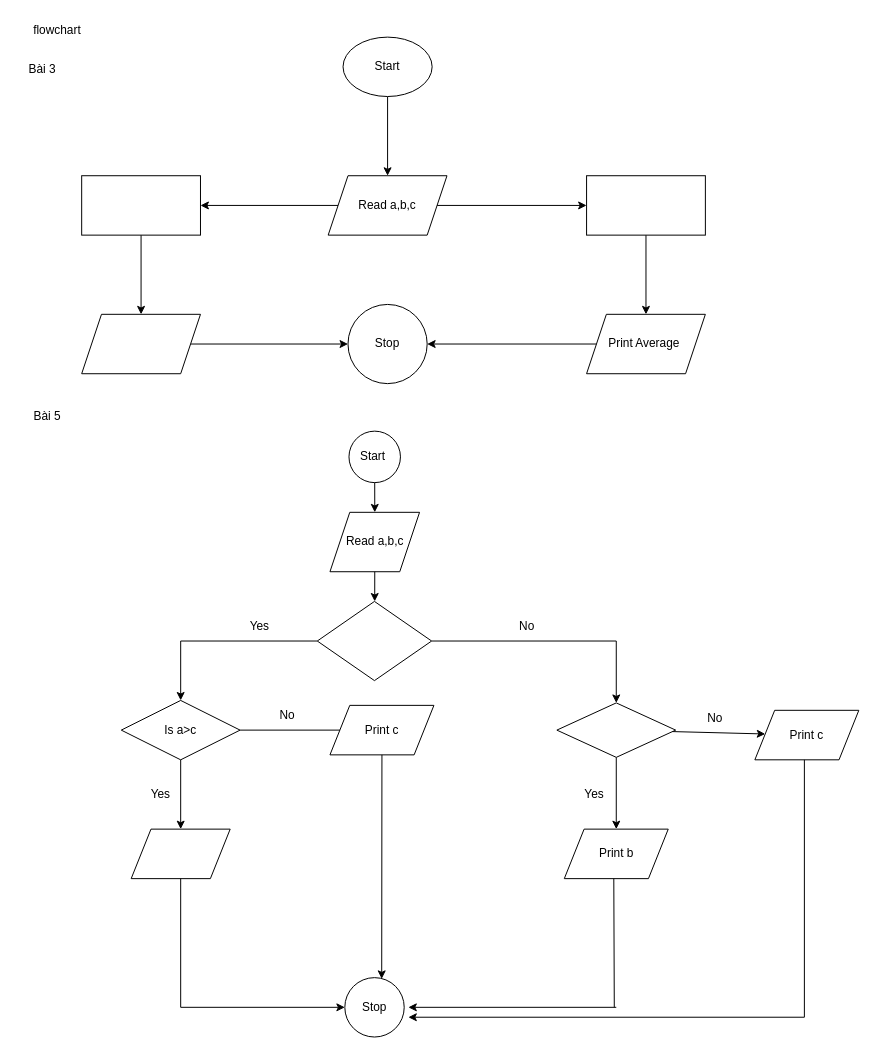
Image size: 876x1054. Some labels were removed from this diagram. Each missing label, with the box of its shape:
Average <=(a+b+c)/3: (586, 175, 705, 235)
Is a>b: (316, 600, 432, 681)
Is b>c: (556, 702, 676, 757)
Print a: (130, 828, 230, 879)
Print Sum: (81, 313, 200, 374)
Sum<=a+b+c: (81, 175, 200, 235)
